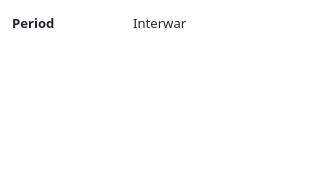
an owner's inline select shows ranges only while editing
This screenshot has width=332, height=172.
Click the element showing "Interwar".
click(222, 24)  # box [132,12,312,36]
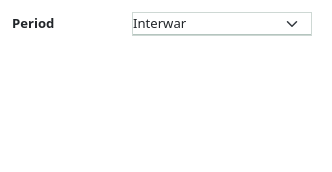
Result: the dropdown is enabled
Select "World War I (1914–1918)" in the dropdown at (222, 24), box [132,12,312,36]
Expected: the text with class "option-label-select-value" reads "Interwar", [133,14,186,32]
Leave the dropdown, box [132,12,312,36]
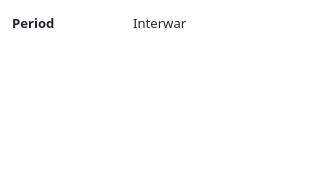
Result: the dropdown is disabled at [132,12,312,36]
